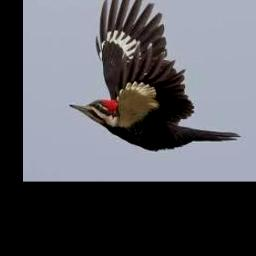Woodpecker: (68, 0, 241, 150)
